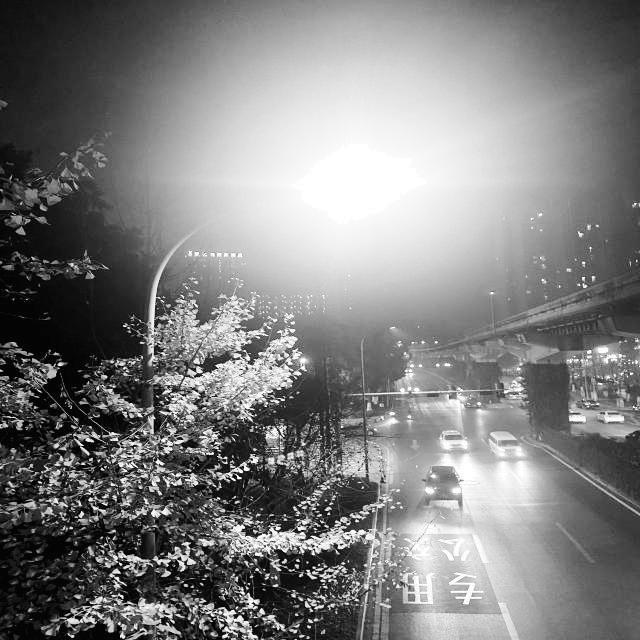Light: (283, 129, 418, 236)
